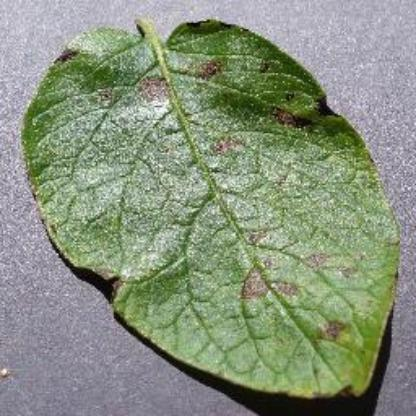Early-Blight: (19, 13, 394, 404)
